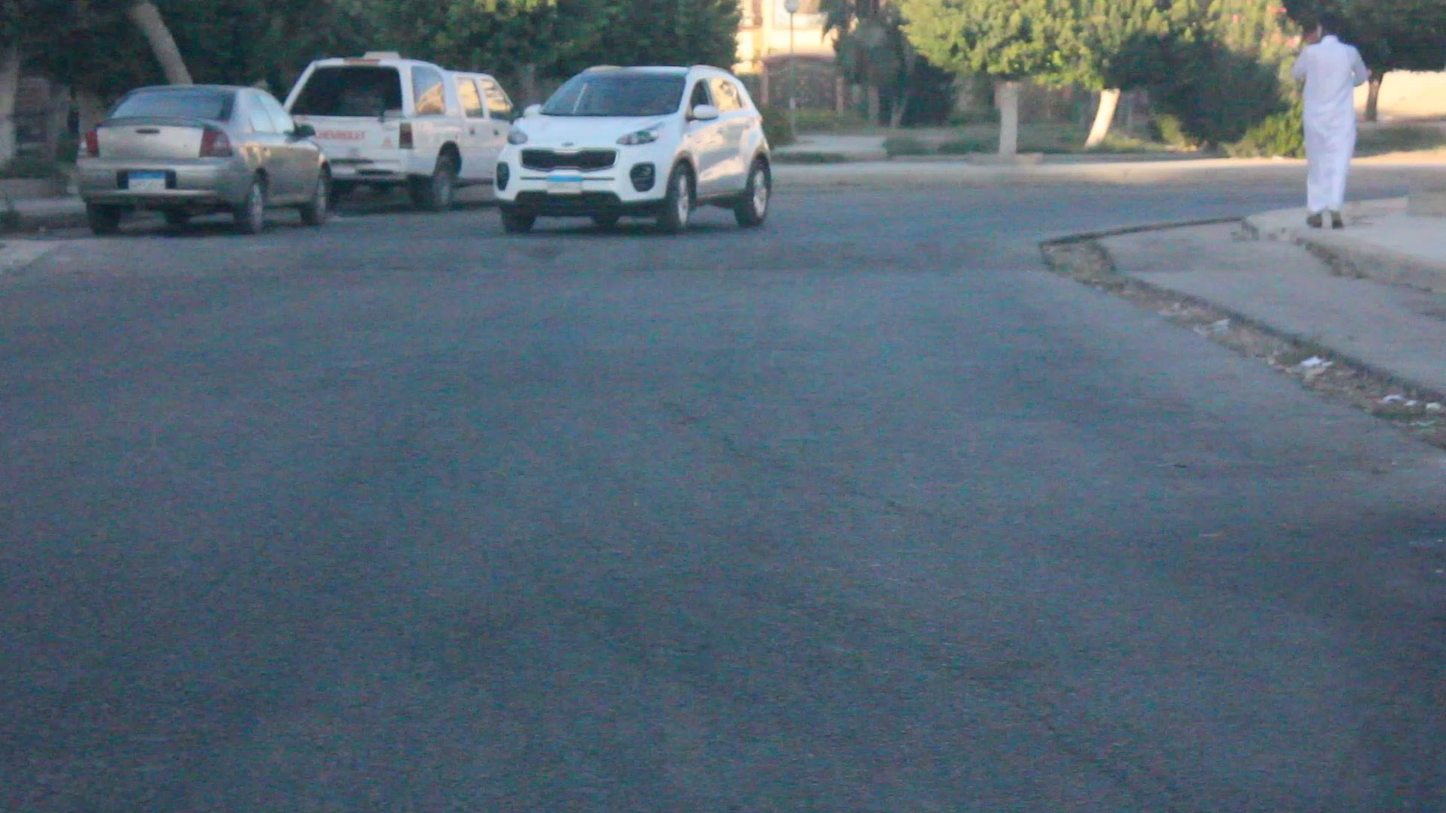Bump: (34, 231, 1037, 271)
